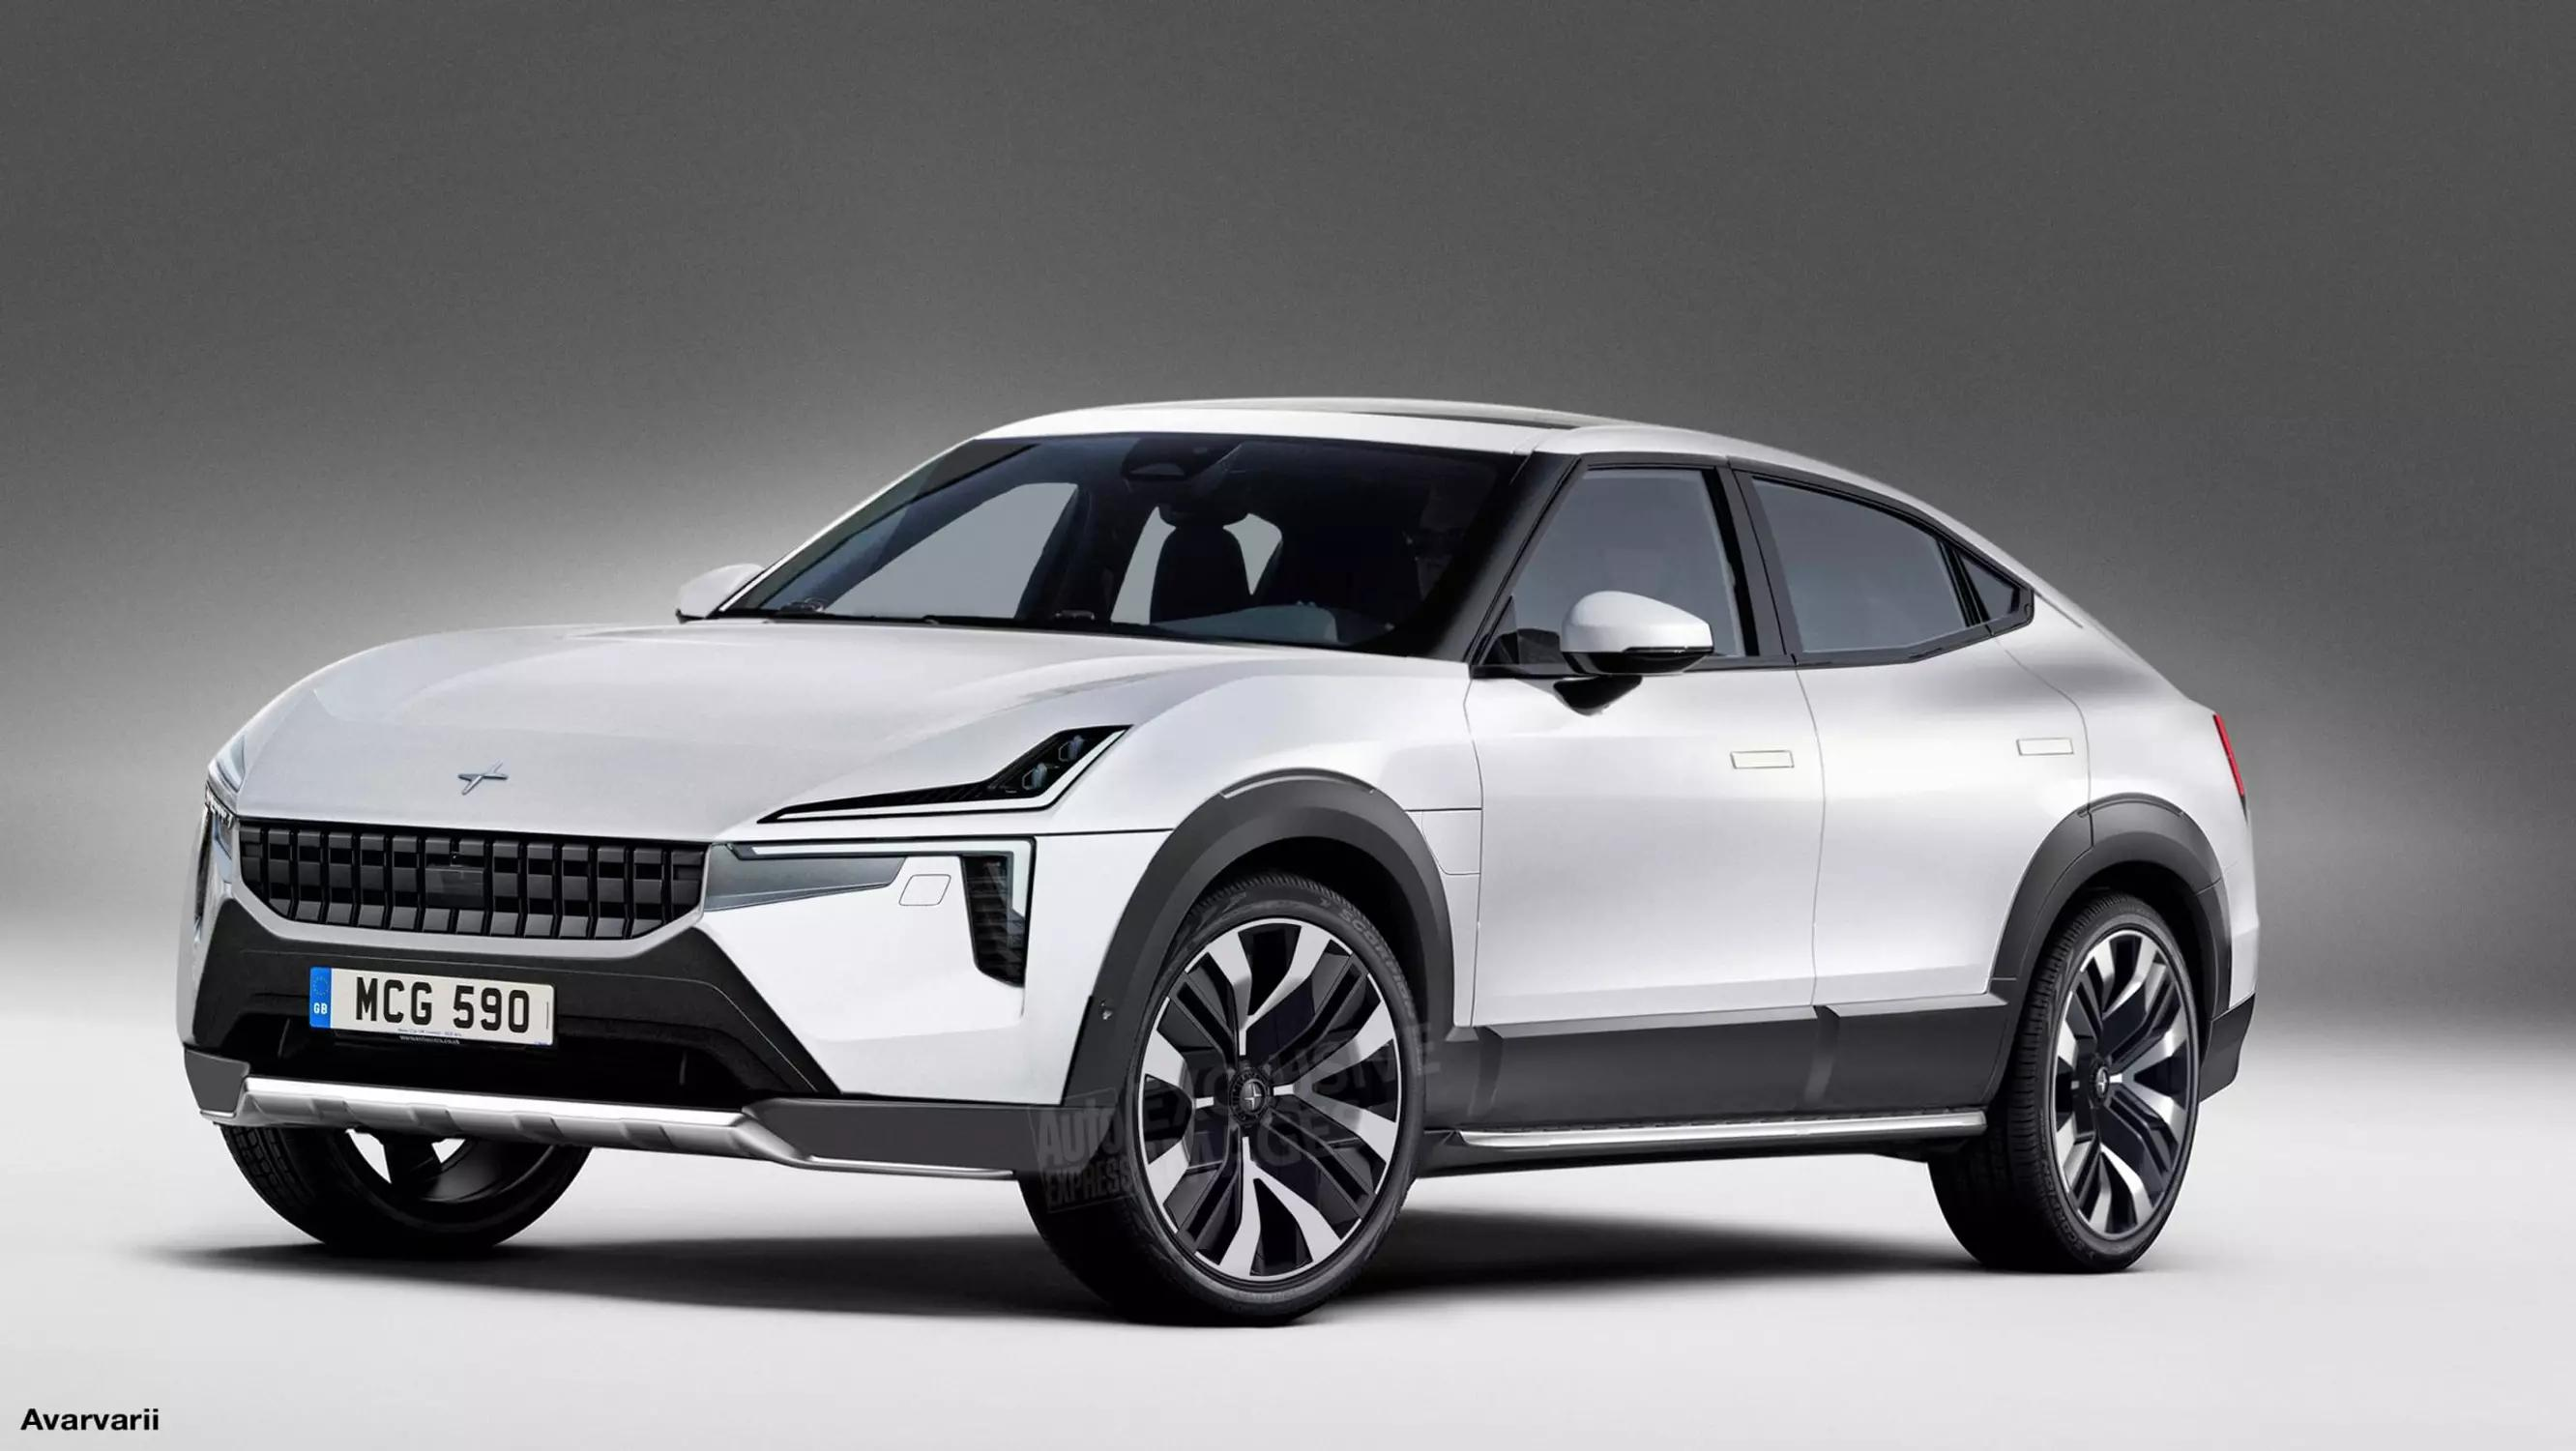car: (161, 377, 2286, 1359)
